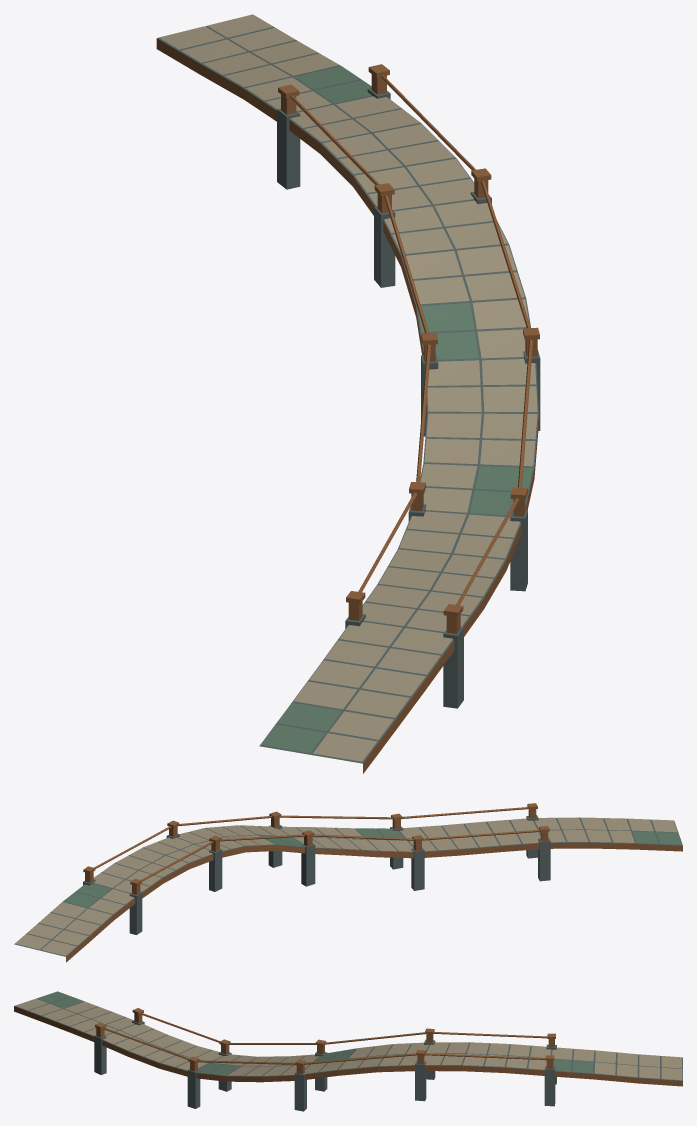
The model's file is 2_mineral_spring_0.glb.
3 renders of one model, top to bottom at view 1: azimuth 30°, elevation 25°; view 2: azimuth 150°, elevation 25°; view 3: azimuth 270°, elevation 25°, orthographic. The views are drawn at different scales.
Parts seen in each view (by area): view 1: Detail_13_14, Detail_13_13, Deck_13_14-col, Deck_13_13-col; view 2: Detail_13_14, Detail_13_13, Deck_13_14-col, Deck_13_13-col; view 3: Detail_13_14, Detail_13_13, Deck_13_14-col, Deck_13_13-col.
Part boxes in pixels (x1,y1,x2,y2): Detail_13_14: [261, 75, 540, 773]; Detail_13_13: [156, 14, 400, 189]; Deck_13_14-col: [259, 98, 538, 763]; Deck_13_13-col: [157, 26, 372, 112]; Detail_13_14: [94, 803, 682, 898]; Detail_13_13: [15, 866, 148, 962]; Deck_13_14-col: [93, 817, 682, 893]; Deck_13_13-col: [14, 889, 134, 956]; Detail_13_14: [14, 991, 547, 1111]; Detail_13_13: [528, 1033, 682, 1106]; Deck_13_14-col: [14, 996, 551, 1076]; Deck_13_13-col: [551, 1049, 682, 1080].
Size of the model in its own units: 16.03 by 5.3 by 29.98.
